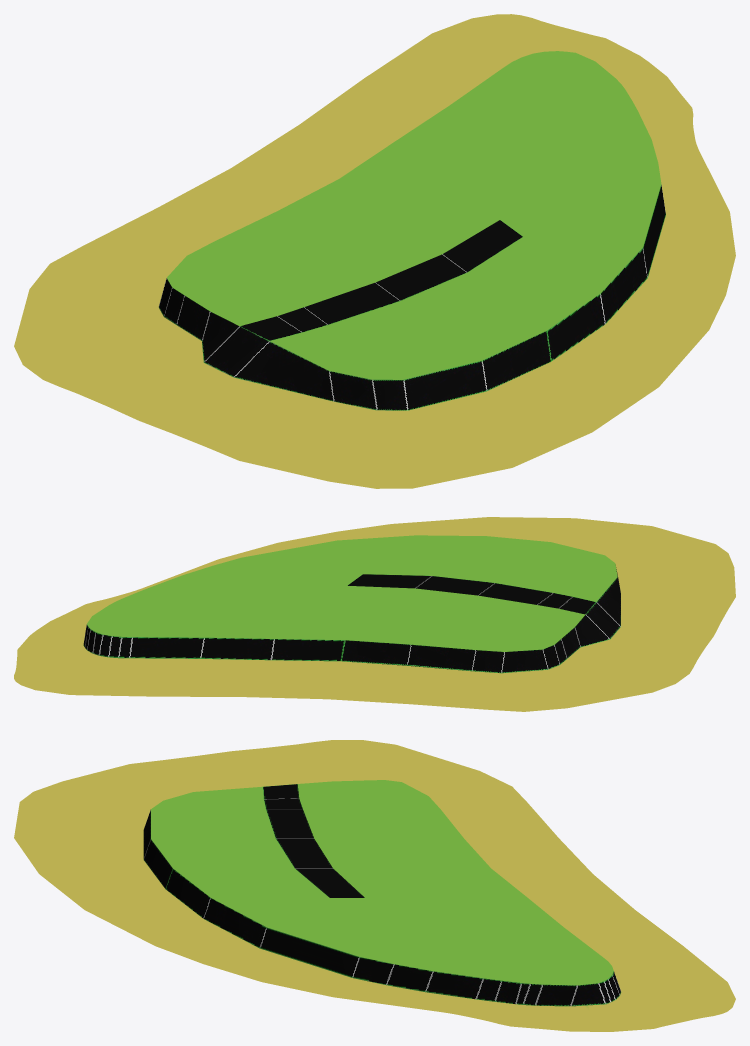
Rendered from isle_03.fbx.
3 renders of one model, top to bottom at view 1: azimuth 30°, elevation 25°; view 2: azimuth 150°, elevation 25°; view 3: azimuth 270°, elevation 25°, orthographic. The views are drawn at different scales.
Parts seen in each view (by area): view 1: isle_03; view 2: isle_03; view 3: isle_03.
Part boxes in pixels (bbox=[...]): isle_03: bbox=[14, 14, 735, 488]; isle_03: bbox=[14, 517, 735, 711]; isle_03: bbox=[14, 740, 735, 1031].
Size of the model in its own units: 117 by 3.98 by 122.
Materials: 1 (1 with a texture image).
